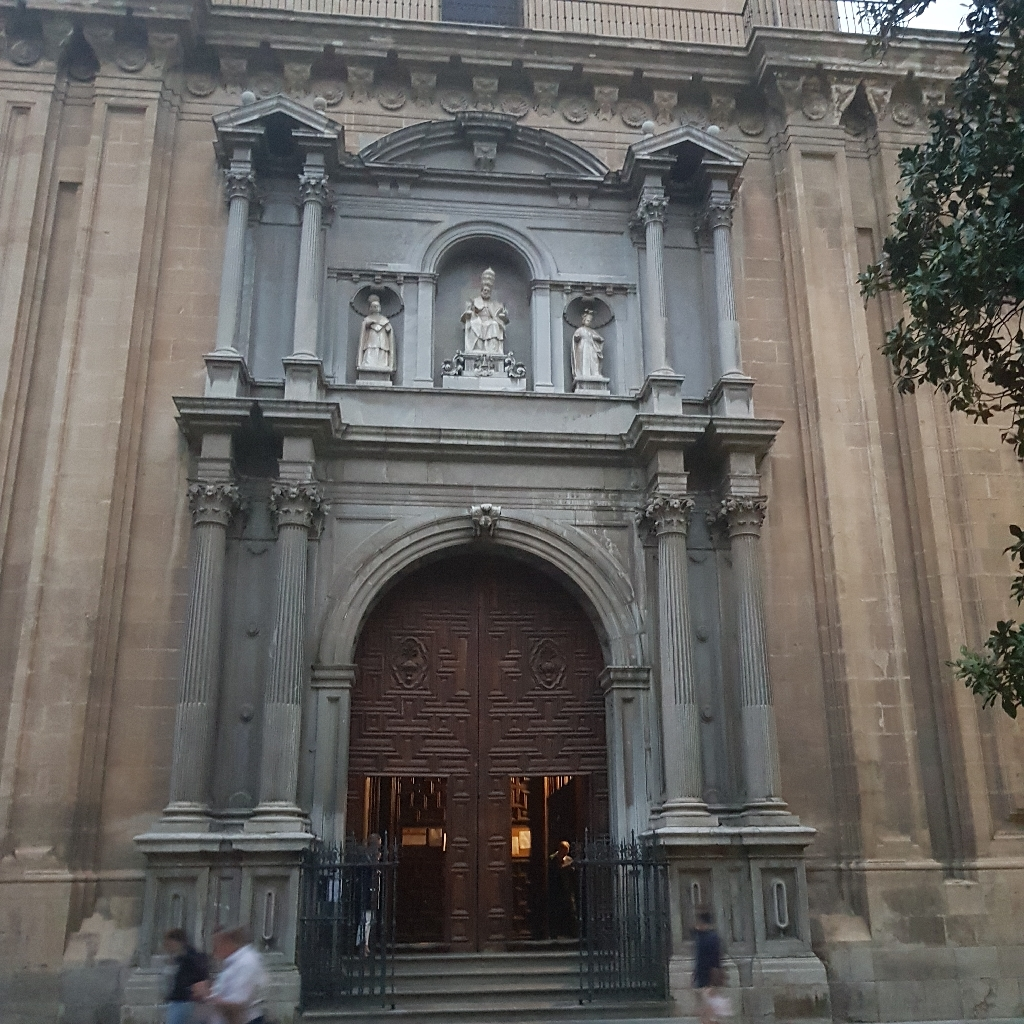arco-medio-punto: (335, 536, 625, 716), (424, 224, 544, 300)
fronton-curvo: (361, 117, 612, 185)
fronton-partido: (209, 92, 349, 153), (628, 121, 750, 179)
serliana: (329, 216, 644, 395)
